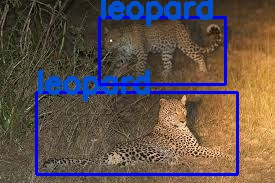leopard: (36, 92, 237, 173), (99, 16, 225, 83)
